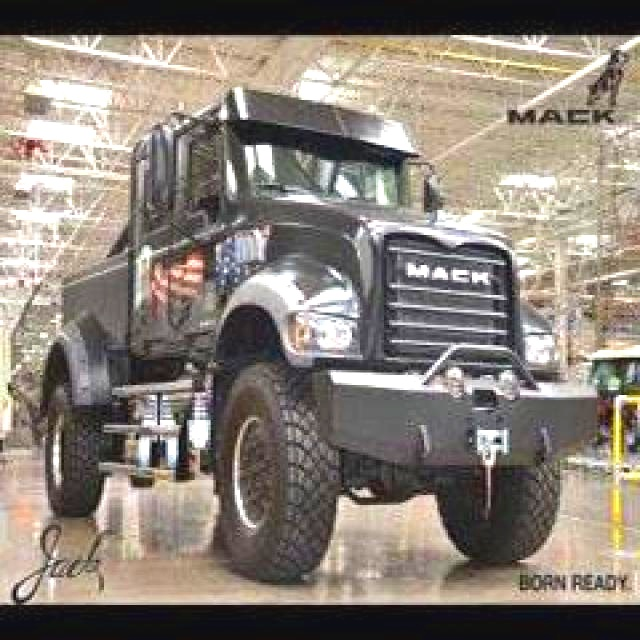truck: (17, 70, 607, 590)
